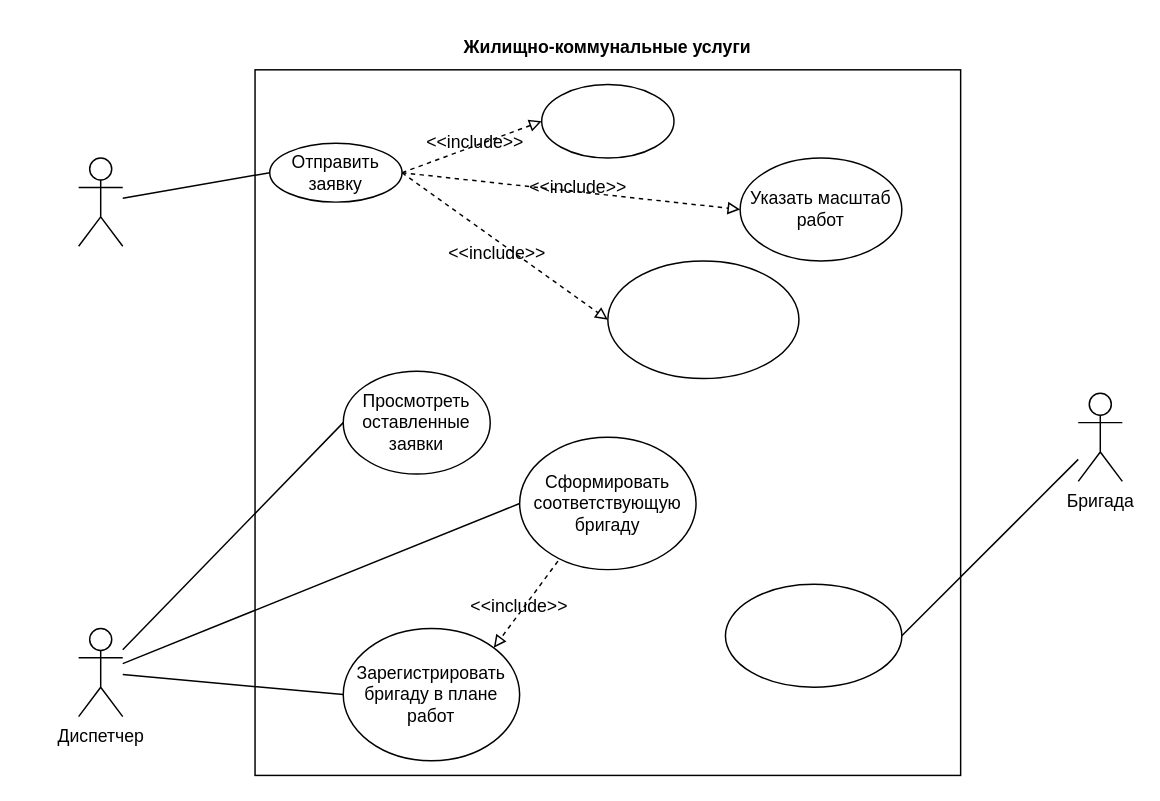
The diagram is 1160 pixels wide and 801 high, and some of its shapes have lost their labels. The shapes that lost their labels are listed below. From the top down, each one's box as (x1, y1, x2, y2) in pixels, then its label:
(540, 83, 674, 158): Указать род работ
(77, 157, 123, 246): Квартиросъемщик
(606, 259, 799, 379): Указать желаемое время выполнения работ
(724, 583, 902, 687): Выполнить указанные работы
